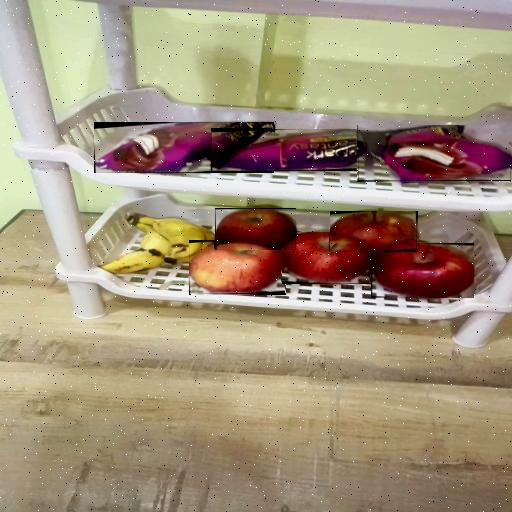Apple: (372, 244, 474, 297), (190, 240, 285, 294), (283, 232, 373, 284), (330, 211, 417, 251), (216, 209, 296, 250)
Choco Pie: (95, 122, 272, 173), (358, 125, 511, 181), (212, 129, 372, 171)
